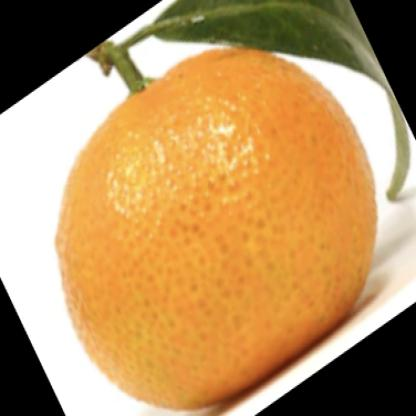fresh: (59, 47, 378, 404)
